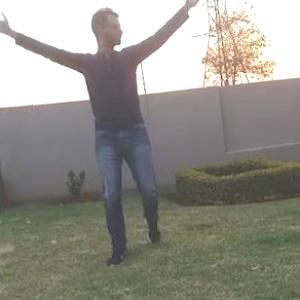takeoff: (5, 7, 193, 252)
